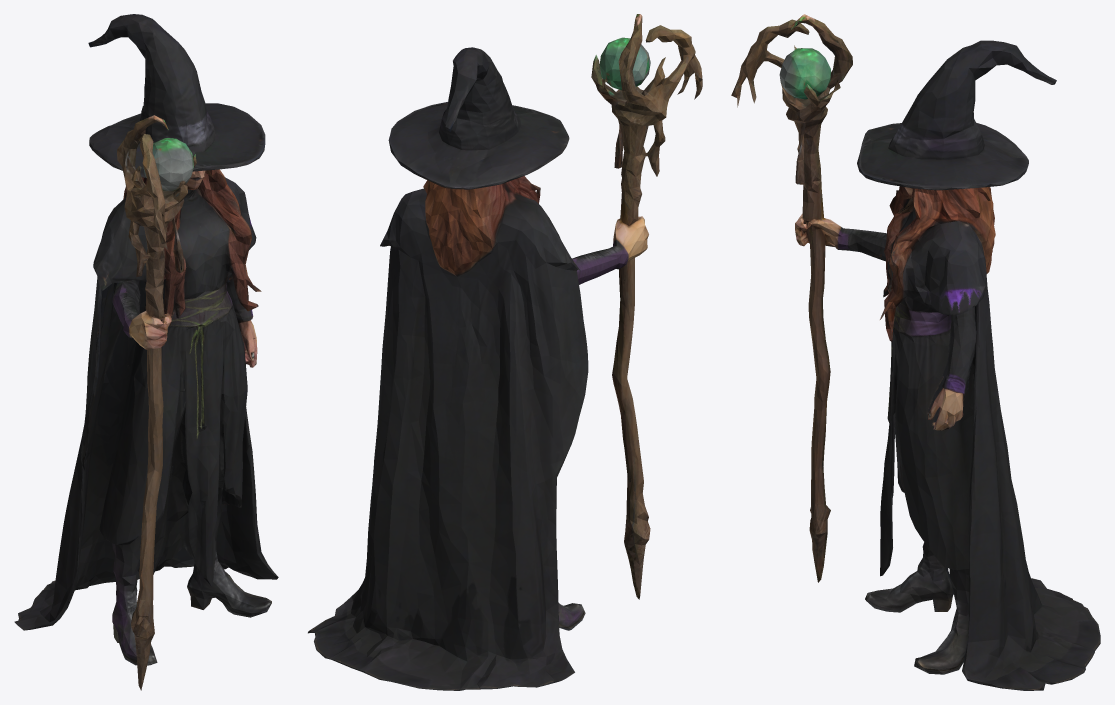
Rendered from witch_0502144909_texture.fbx.
3 renders of one model, left to right at view 1: azimuth 30°, elevation 25°; view 2: azimuth 150°, elevation 25°; view 3: azimuth 270°, elevation 25°, orthographic.
Parts seen in each view (by area): view 1: temp; view 2: temp; view 3: temp.
Part boxes in pixels (x1,y1,x2,y2): temp: (14, 14, 278, 690); temp: (308, 14, 702, 690); temp: (731, 14, 1100, 690).
Size of the model in its own units: 86.04 by 200 by 114.
1 material, 1 textured.
